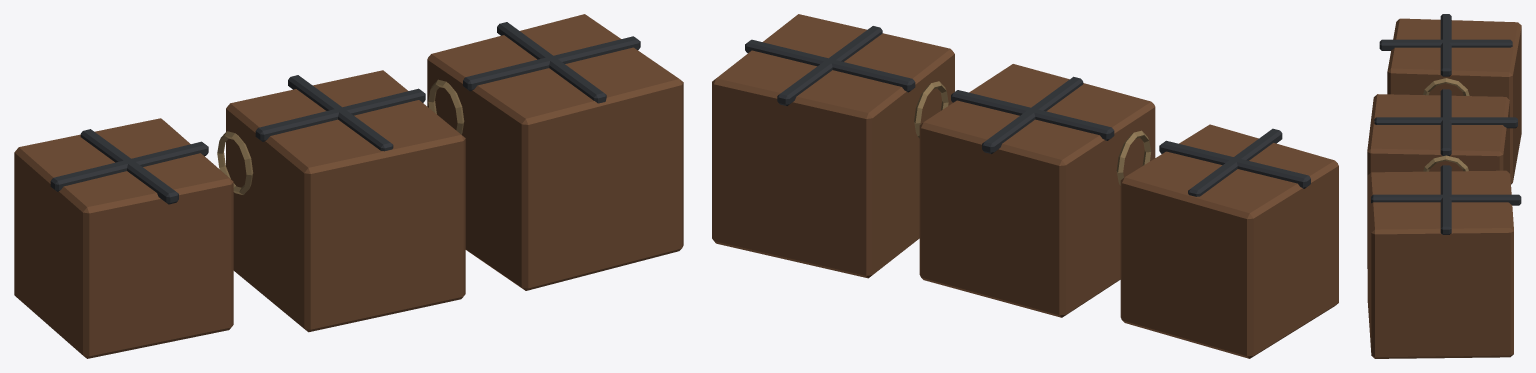
The model's file is raft3.glb.
3 views of the same model, side by side, from view 1: azimuth 30°, elevation 25°; view 2: azimuth 150°, elevation 25°; view 3: azimuth 270°, elevation 25° (orthographic). The views are drawn at different scales.
Visible parts, largest first — view 1: Raft; view 2: Raft; view 3: Raft.
Part boxes in pixels (<box>): Raft: <box>14,14,683,358</box>; Raft: <box>712,14,1338,358</box>; Raft: <box>1367,14,1521,358</box>.
Bounding box in the file's own units: 2.78 × 0.8159 × 0.8441.
